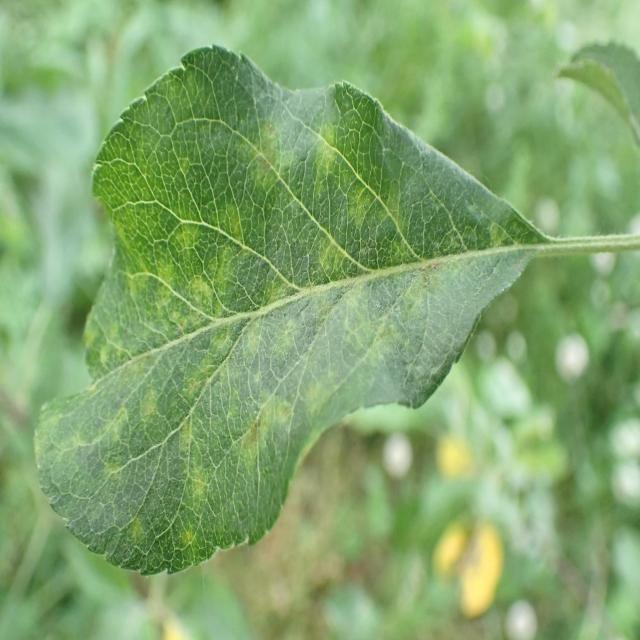scab: (76, 39, 523, 564)
